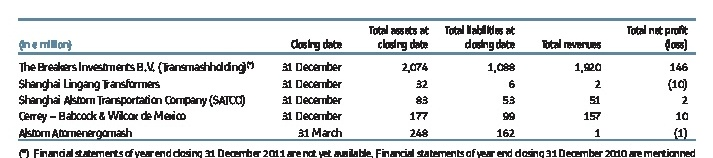table: (0, 0, 713, 158)
